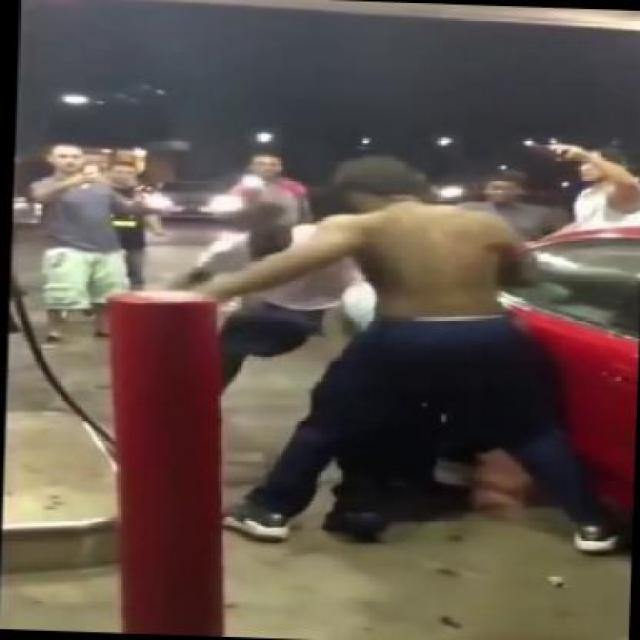fight: (182, 148, 638, 557)
non-fight: (20, 138, 165, 348)
